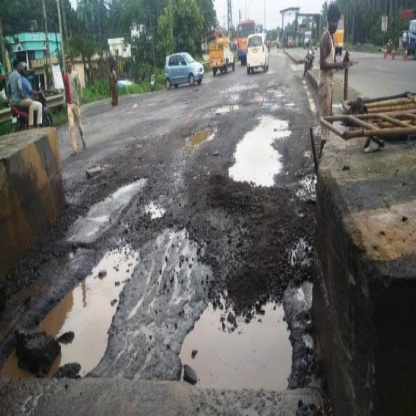pothole: (1, 229, 151, 390), (171, 280, 301, 394), (236, 109, 297, 195), (178, 116, 218, 158)
